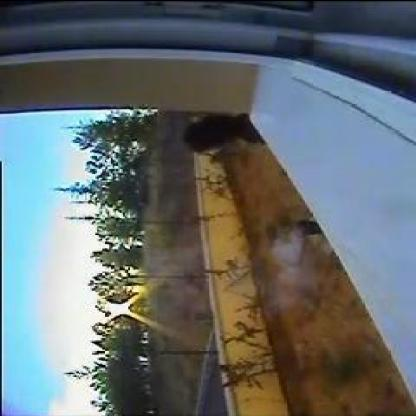-: (276, 230, 302, 272)
